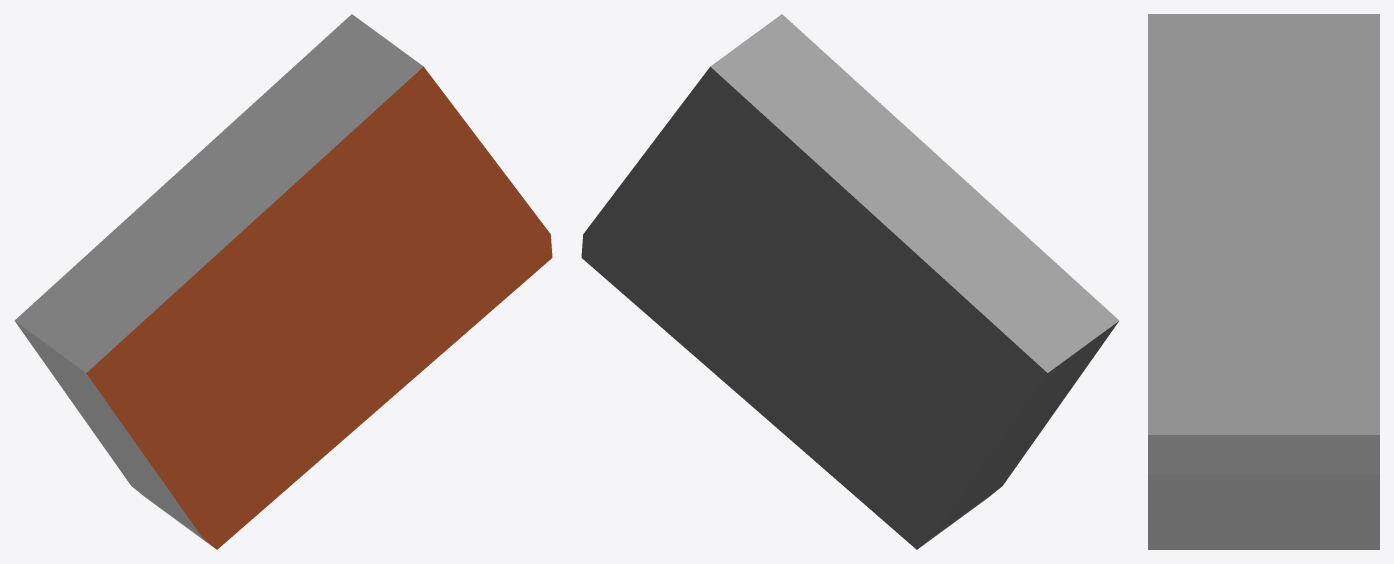
The model's file is construction_3396_assumed_A_Casa_h6m.obj.
The picture shows the model from 3 angles, left to right: view 1: azimuth 30°, elevation 25°; view 2: azimuth 150°, elevation 25°; view 3: azimuth 270°, elevation 25°; orthographic projection. The views are drawn at different scales.
Parts seen in each view (by area): view 1: construction_3396_assumed_A_Casa; view 2: construction_3396_assumed_A_Casa; view 3: construction_3396_assumed_A_Casa.
Boxes of the visible parts, bbox=[...] form: construction_3396_assumed_A_Casa: bbox=[14, 14, 552, 549]; construction_3396_assumed_A_Casa: bbox=[581, 14, 1119, 549]; construction_3396_assumed_A_Casa: bbox=[1148, 14, 1379, 549].
Size of the model in its own units: 22.49 by 19.96 by 6.
